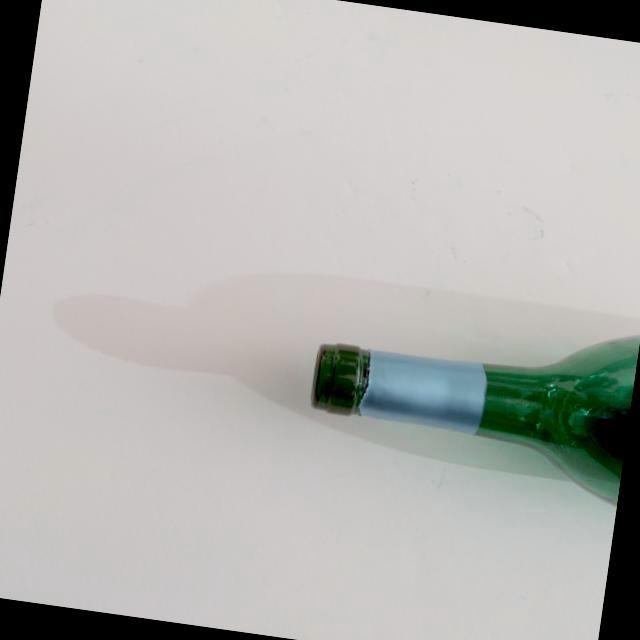glass: (291, 285, 640, 509)
